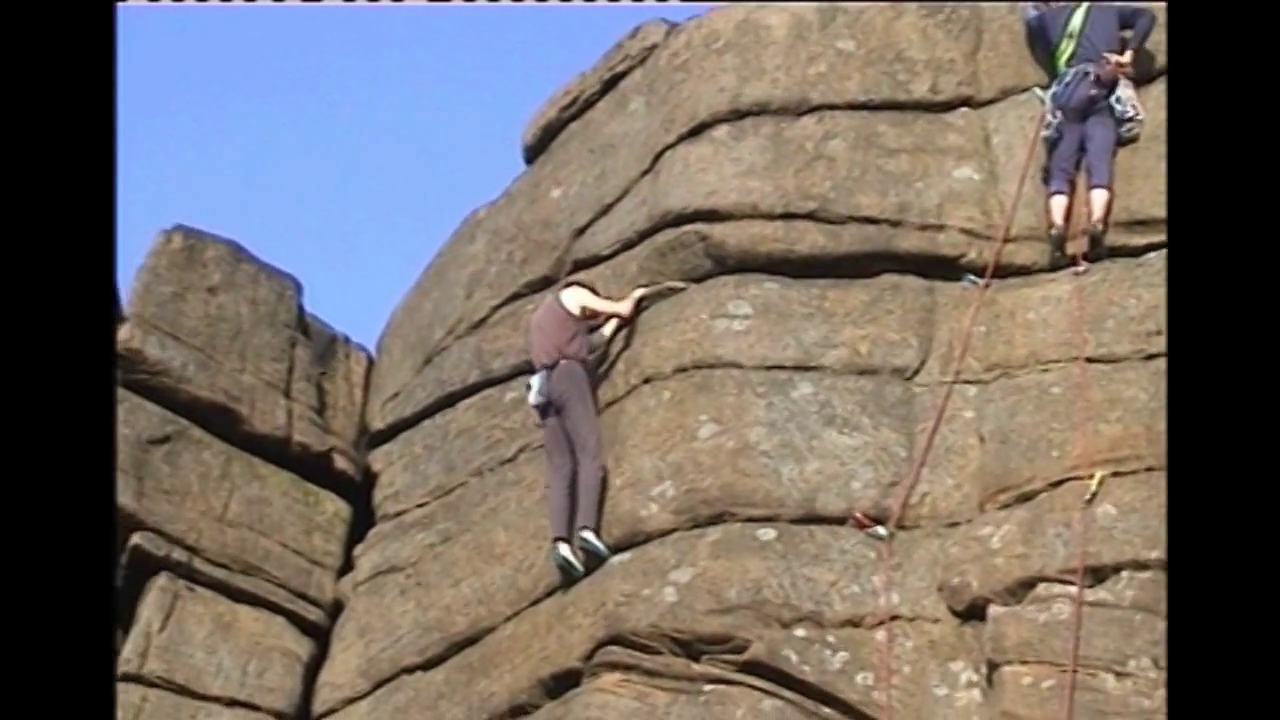person: (526, 278, 646, 581), (1022, 1, 1156, 261)
